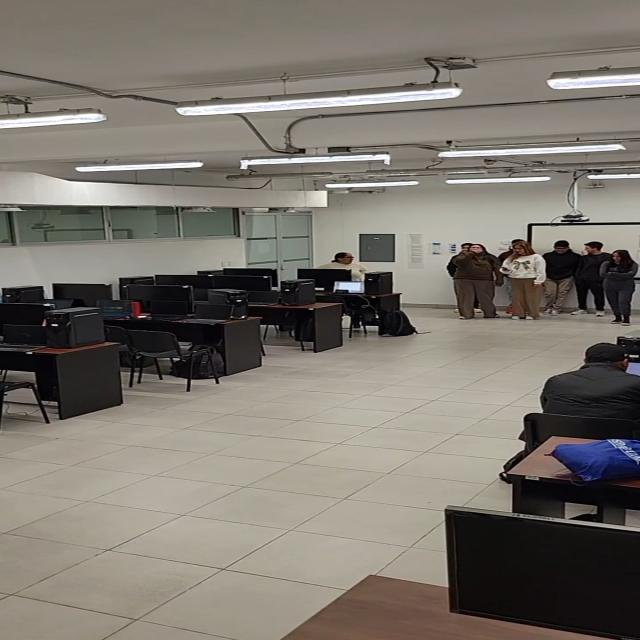Persona: (445, 240, 495, 320), (504, 238, 546, 323), (602, 249, 640, 319), (546, 236, 574, 314), (578, 237, 604, 315)
